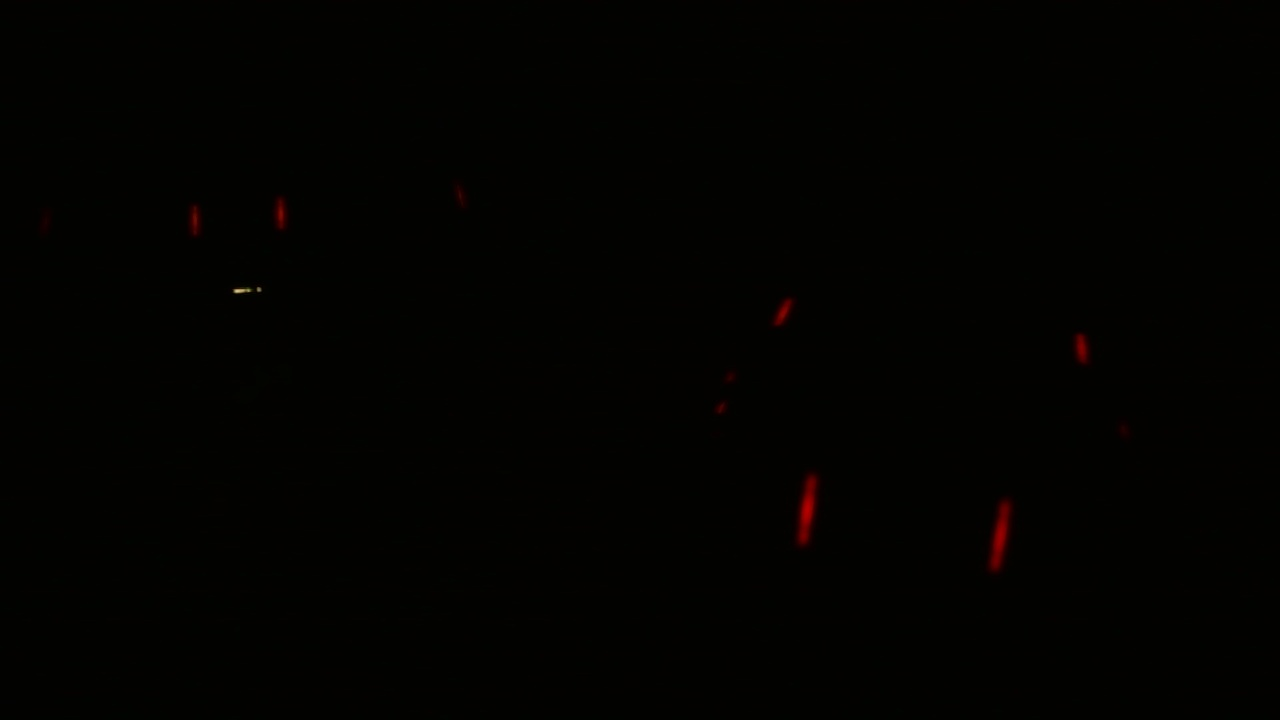pair1: (175, 189, 300, 254)
pair2: (787, 474, 1019, 578)
